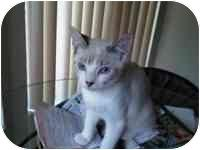siamese: (67, 25, 135, 98)
